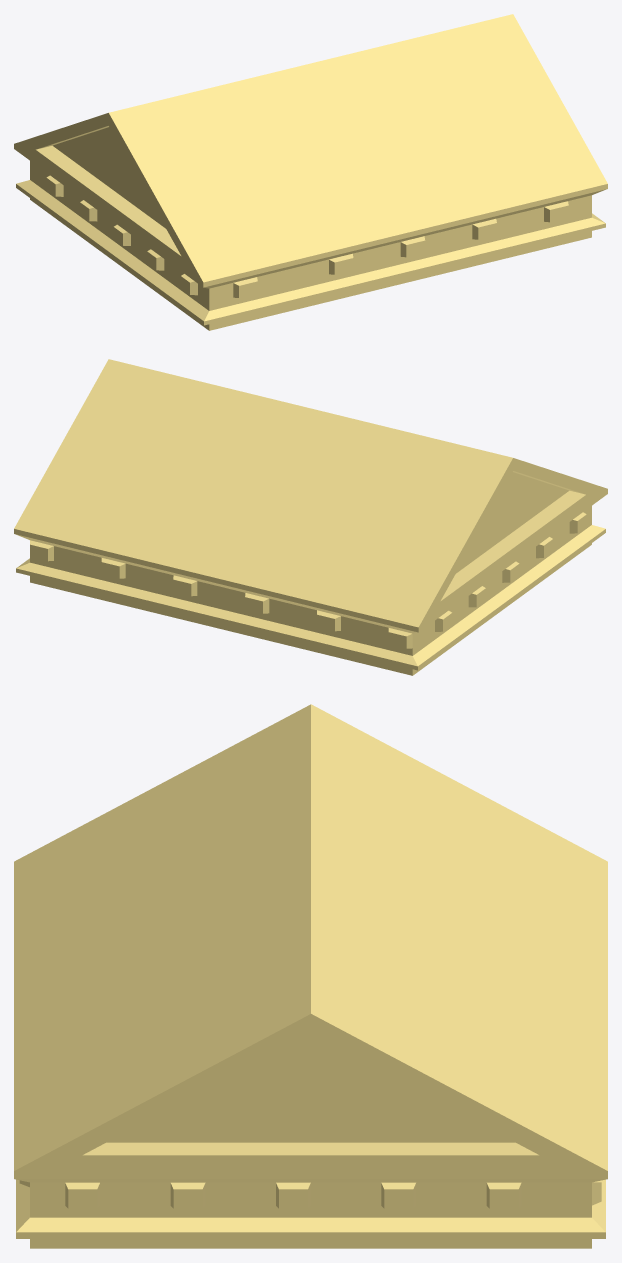
The model's file is Greek_roof_01.fbx.
3 renders of one model, top to bottom at view 1: azimuth 30°, elevation 25°; view 2: azimuth 150°, elevation 25°; view 3: azimuth 270°, elevation 25°, orthographic. The views are drawn at different scales.
Visible parts, largest first — view 1: Roof_01; view 2: Roof_01; view 3: Roof_01.
Boxes of the visible parts, left/top/right/bottom form: Roof_01: left=14, top=14, right=607, bottom=330; Roof_01: left=14, top=359, right=607, bottom=675; Roof_01: left=14, top=704, right=607, bottom=1248.
Size of the model in its own units: 1220 by 447 by 989.
